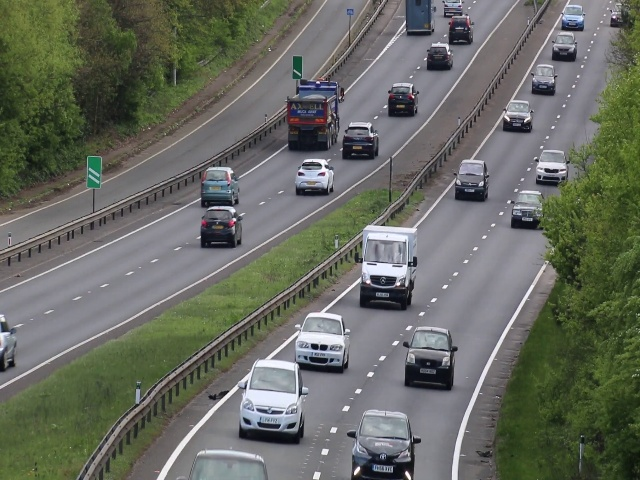car: (238, 355, 307, 443), (356, 222, 418, 309), (348, 405, 415, 480), (403, 323, 457, 393), (287, 82, 339, 154), (294, 308, 348, 373), (198, 204, 245, 250), (192, 450, 263, 480), (198, 165, 243, 208), (293, 156, 335, 195), (341, 120, 380, 161), (510, 188, 546, 230), (454, 156, 486, 202), (384, 80, 420, 118), (537, 146, 568, 187), (403, 1, 436, 35), (501, 98, 532, 134), (531, 60, 558, 96), (1, 313, 19, 367), (447, 13, 475, 44), (424, 41, 454, 68), (550, 30, 577, 60), (560, 5, 586, 29)
